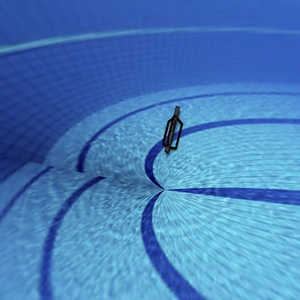submarine: (149, 96, 195, 162)
